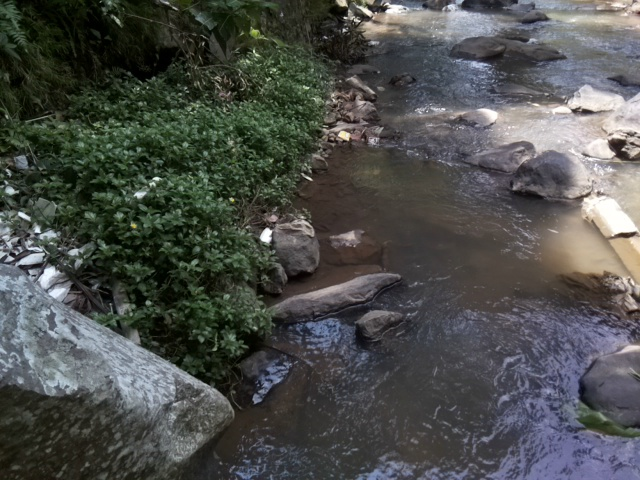Sampah_Styrofoam: (260, 224, 273, 246)
